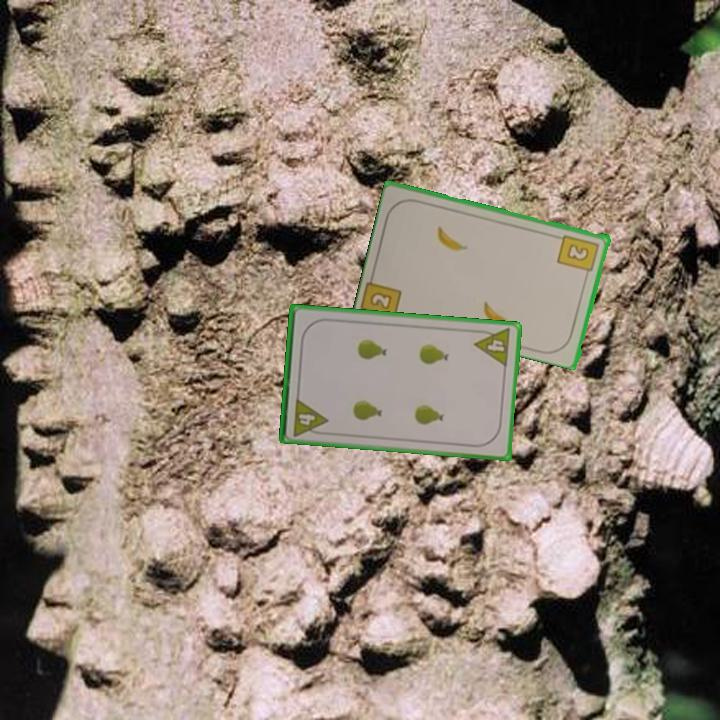2b: (554, 231, 602, 279), (366, 288, 395, 312)
4p: (471, 325, 514, 369), (289, 394, 330, 439)
